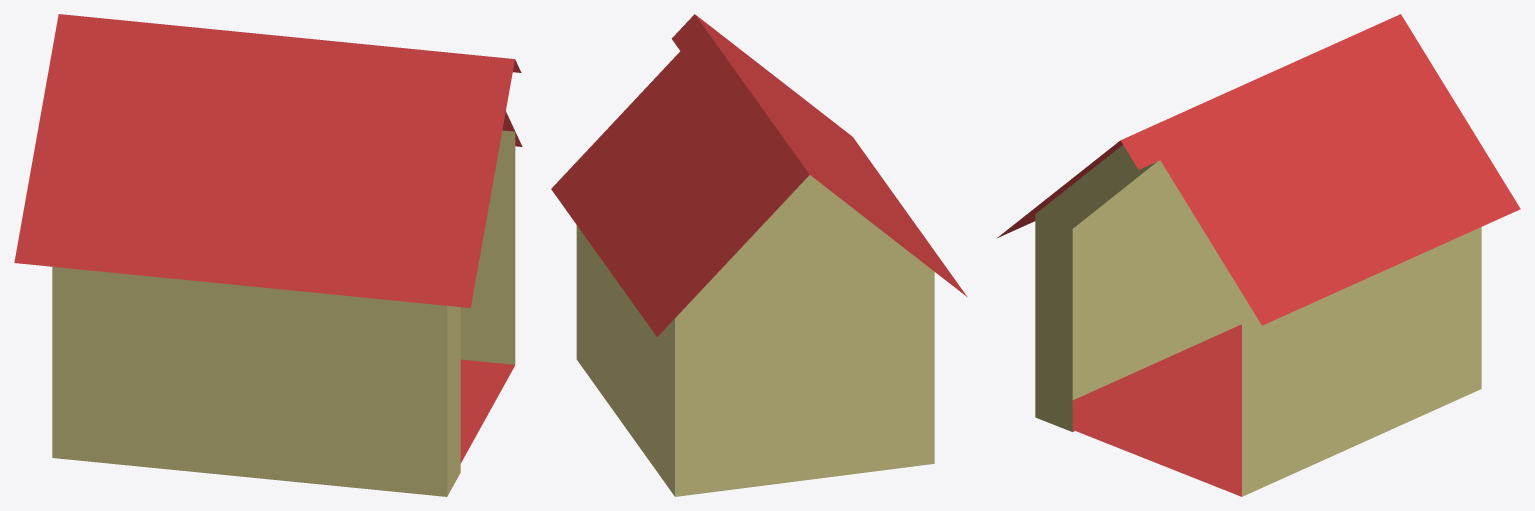
The picture shows the model from 3 angles, left to right: view 1: azimuth 30°, elevation 25°; view 2: azimuth 150°, elevation 25°; view 3: azimuth 270°, elevation 25°; orthographic projection. The views are drawn at different scales.
Bounding box in the file's own units: 13.72 × 14.25 × 9.79.
